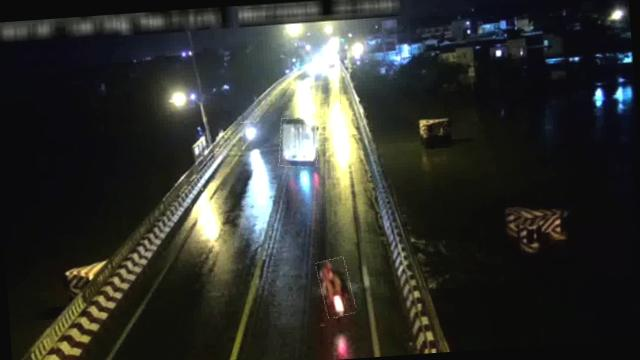Bike: (316, 256, 354, 318), (240, 122, 257, 144)
Truck: (277, 116, 320, 168)
